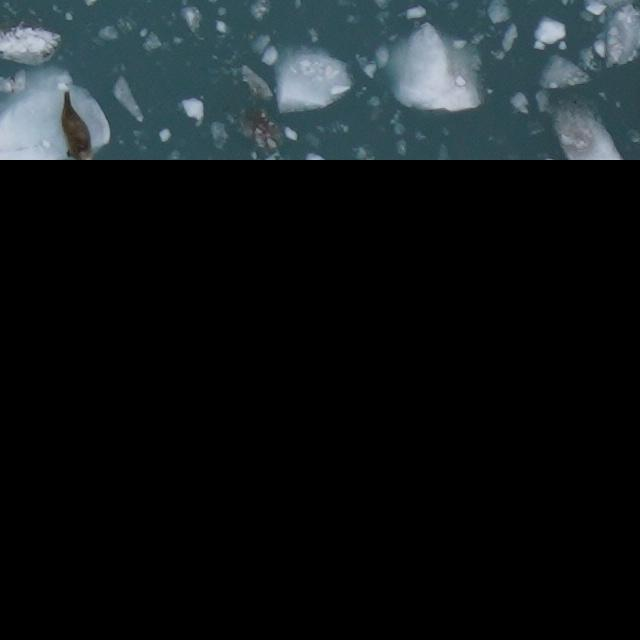seal: (58, 86, 98, 159)
